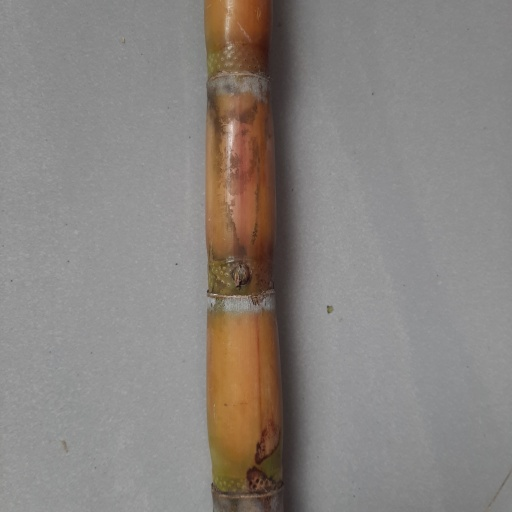Bud: (231, 263, 251, 287)
